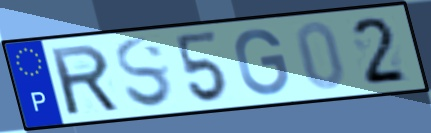0: (293, 20, 349, 94)
2: (349, 15, 408, 88)
5: (170, 28, 232, 106)
G: (232, 26, 292, 98)
R: (46, 42, 123, 118)
S: (112, 36, 177, 111)
